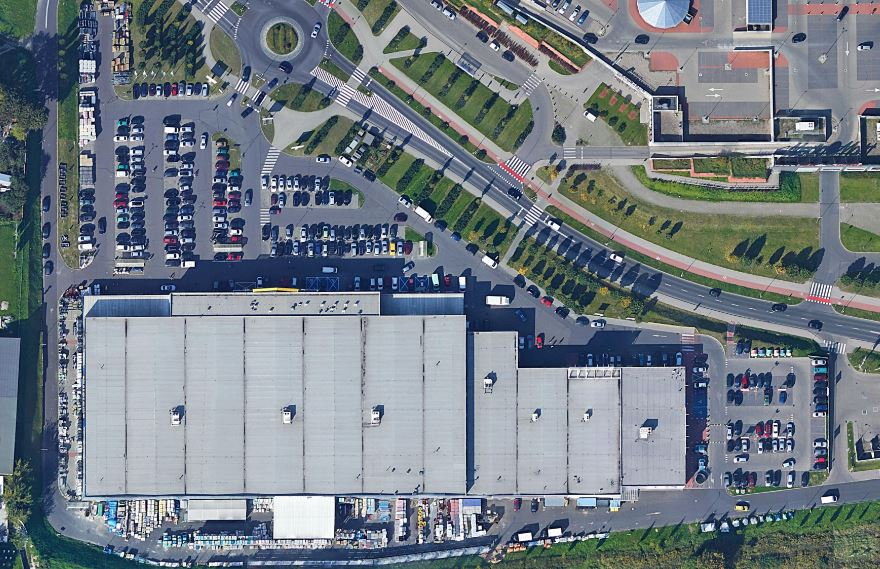shopping_center: (43, 267, 705, 554), (480, 1, 880, 191)
